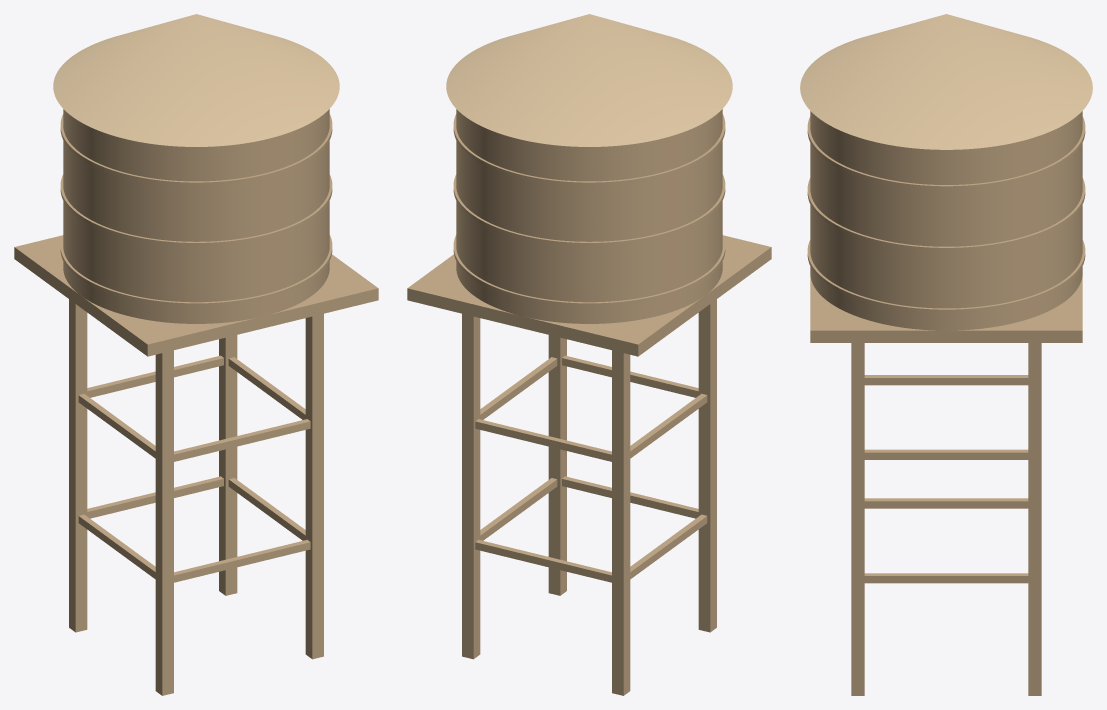
File: water_tower.glb
3 views of the same model, side by side, from view 1: azimuth 30°, elevation 25°; view 2: azimuth 150°, elevation 25°; view 3: azimuth 270°, elevation 25° (orthographic). The views are drawn at different scales.
Parts seen in each view (by area): view 1: tank, roof, deck, leg_nn, leg_pn, leg_np, leg_pp, brace_x1_n, brace_x2_n, brace_x1_p, brace_x2_p, brace_y1_n (+3 smaller); view 2: tank, roof, deck, leg_np, leg_pp, leg_nn, leg_pn, brace_x1_p, brace_x2_p, brace_x1_n, brace_x2_n, brace_y1_n (+3 smaller); view 3: tank, roof, deck, leg_pn, leg_pp, brace_y1_n, brace_y1_p, brace_y2_n, brace_y2_p.
Part boxes in pixels (left/top/right/bottom): tank: left=60, top=109, right=332, bottom=323; roof: left=53, top=14, right=339, bottom=146; deck: left=14, top=235, right=378, bottom=356; leg_nn: left=155, top=350, right=173, bottom=695; leg_pn: left=305, top=313, right=323, bottom=659; leg_np: left=69, top=299, right=87, bottom=632; leg_pp: left=219, top=335, right=237, bottom=595; brace_x1_n: left=174, top=539, right=310, bottom=582; brace_x2_n: left=174, top=419, right=310, bottom=461; brace_x1_p: left=87, top=476, right=223, bottom=518; brace_x2_p: left=87, top=355, right=223, bottom=397; brace_y1_n: left=78, top=514, right=155, bottom=579; tank: left=453, top=109, right=725, bottom=323; roof: left=446, top=14, right=732, bottom=146; deck: left=407, top=235, right=771, bottom=356; leg_np: left=612, top=350, right=630, bottom=695; leg_pp: left=462, top=313, right=480, bottom=659; leg_nn: left=698, top=299, right=716, bottom=632; leg_pn: left=548, top=335, right=566, bottom=595; brace_x1_p: left=475, top=539, right=611, bottom=582; brace_x2_p: left=475, top=419, right=611, bottom=461; brace_x1_n: left=562, top=476, right=698, bottom=518; brace_x2_n: left=562, top=355, right=698, bottom=397; brace_y1_n: left=630, top=514, right=707, bottom=579; tank: left=807, top=111, right=1085, bottom=330; roof: left=800, top=14, right=1092, bottom=149; deck: left=810, top=276, right=1082, bottom=342; leg_pn: left=851, top=343, right=864, bottom=695; leg_pp: left=1028, top=343, right=1041, bottom=695; brace_y1_n: left=864, top=498, right=1028, bottom=508; brace_y1_p: left=864, top=573, right=1028, bottom=583; brace_y2_n: left=864, top=375, right=1028, bottom=385; brace_y2_p: left=864, top=449, right=1028, bottom=459.
Bounding box in the file's own units: 4.3 × 10.4 × 4.3.
